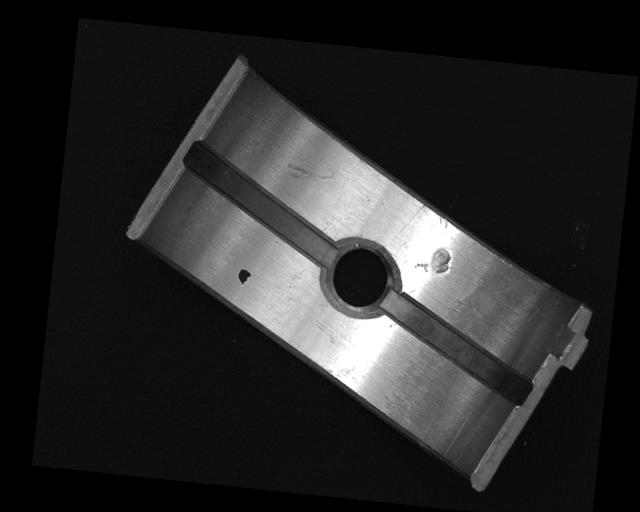blot: (237, 267, 252, 285)
bruise: (412, 244, 453, 276)
gap: (177, 140, 343, 268), (374, 292, 537, 405)
hole: (322, 236, 400, 321)
nick: (285, 161, 337, 184)
